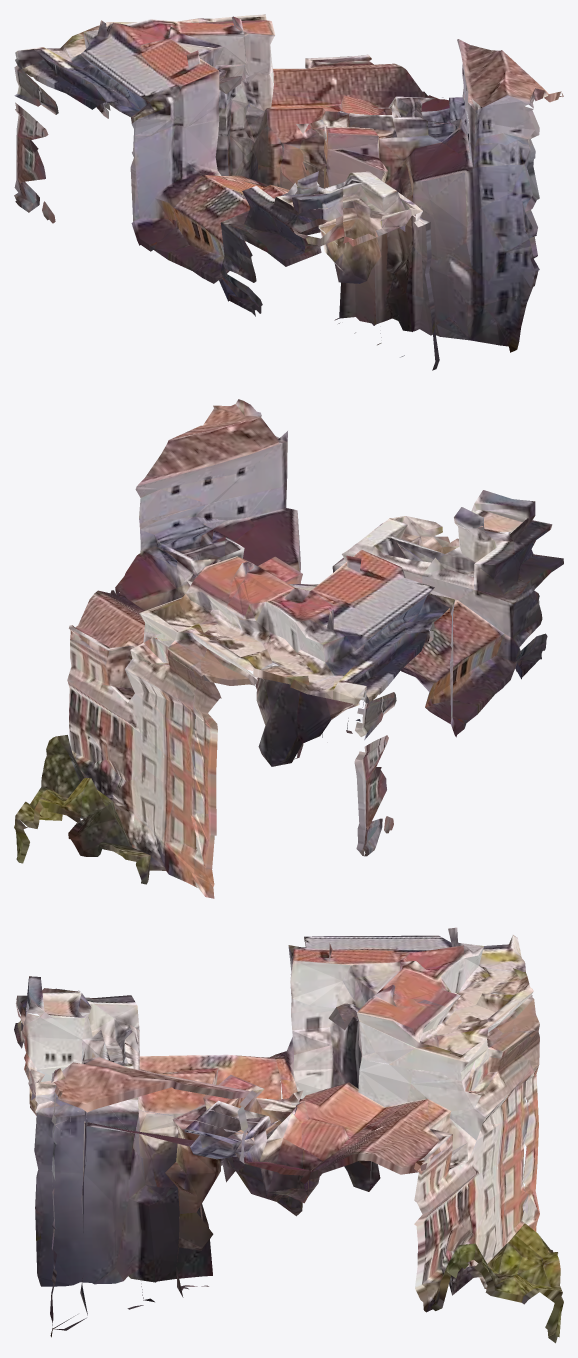
3 views of the same model, one above another, from view 1: azimuth 30°, elevation 25°; view 2: azimuth 150°, elevation 25°; view 3: azimuth 270°, elevation 25° (orthographic). The views are drawn at different scales.
Visible parts, largest first — view 1: Mesh_0; view 2: Mesh_0; view 3: Mesh_0.
Part boxes in pixels (x1,y1,x2,y2): Mesh_0: [14, 14, 563, 370]; Mesh_0: [14, 399, 563, 898]; Mesh_0: [14, 927, 563, 1343].
Size of the model in its own units: 33.33 by 23.78 by 41.46.
Materials: 1 (1 with a texture image).
